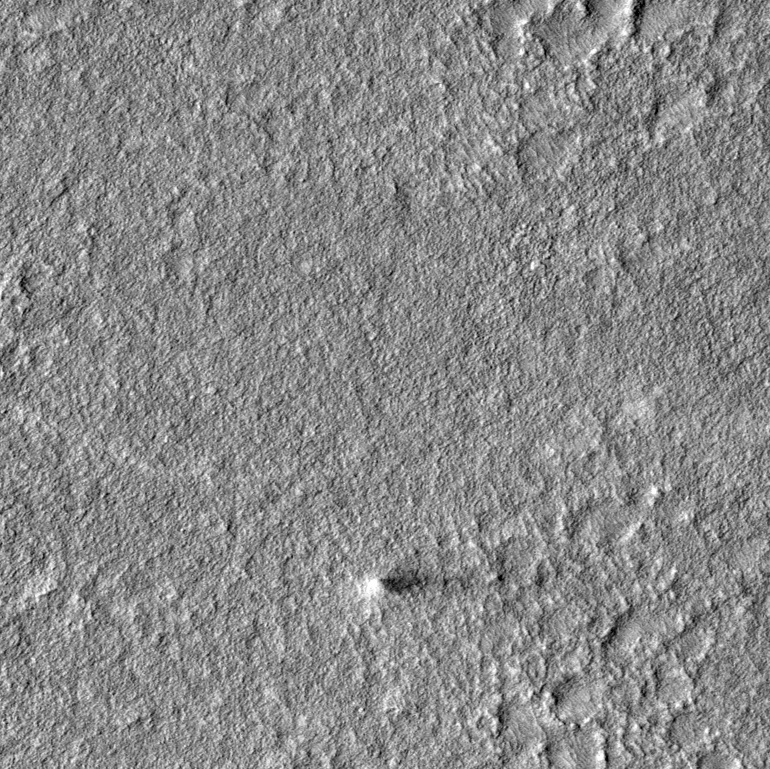dust_devil: (364, 574, 429, 596)
